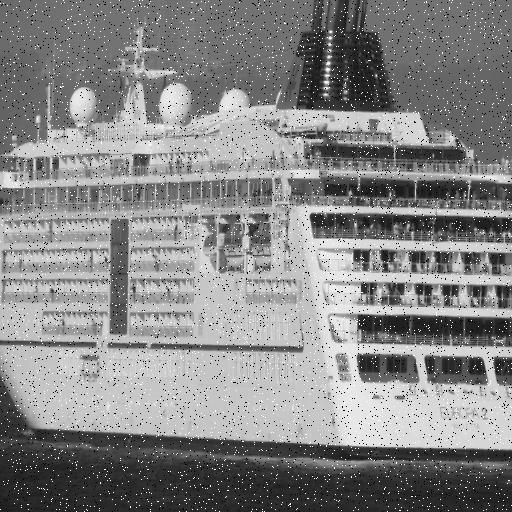cruises: (1, 1, 512, 471)
